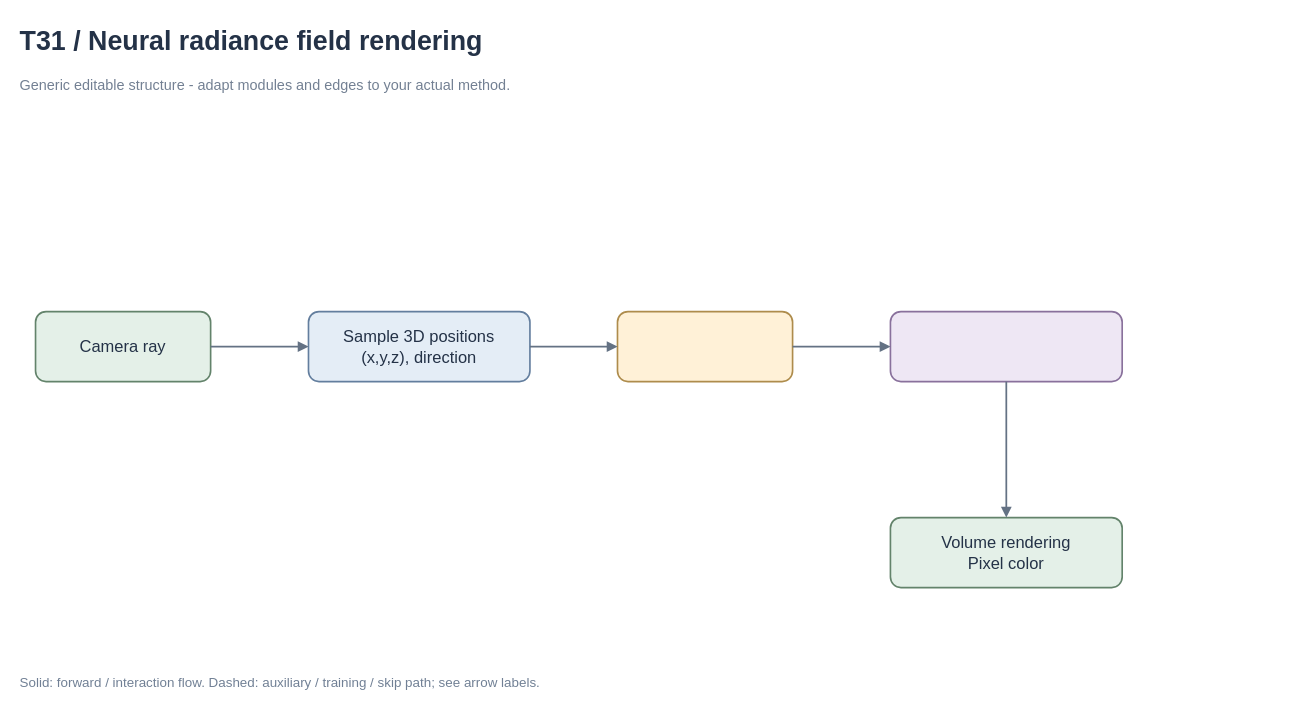
The diagram is 1302 pixels wide and 716 high, and some of its shapes have lost their labels. Here are the shapes that lost their labels. From the top down, the box of each, then its label:
(616, 310, 793, 382): Position encoding
(889, 310, 1122, 382): Radiance field MLP color + density
